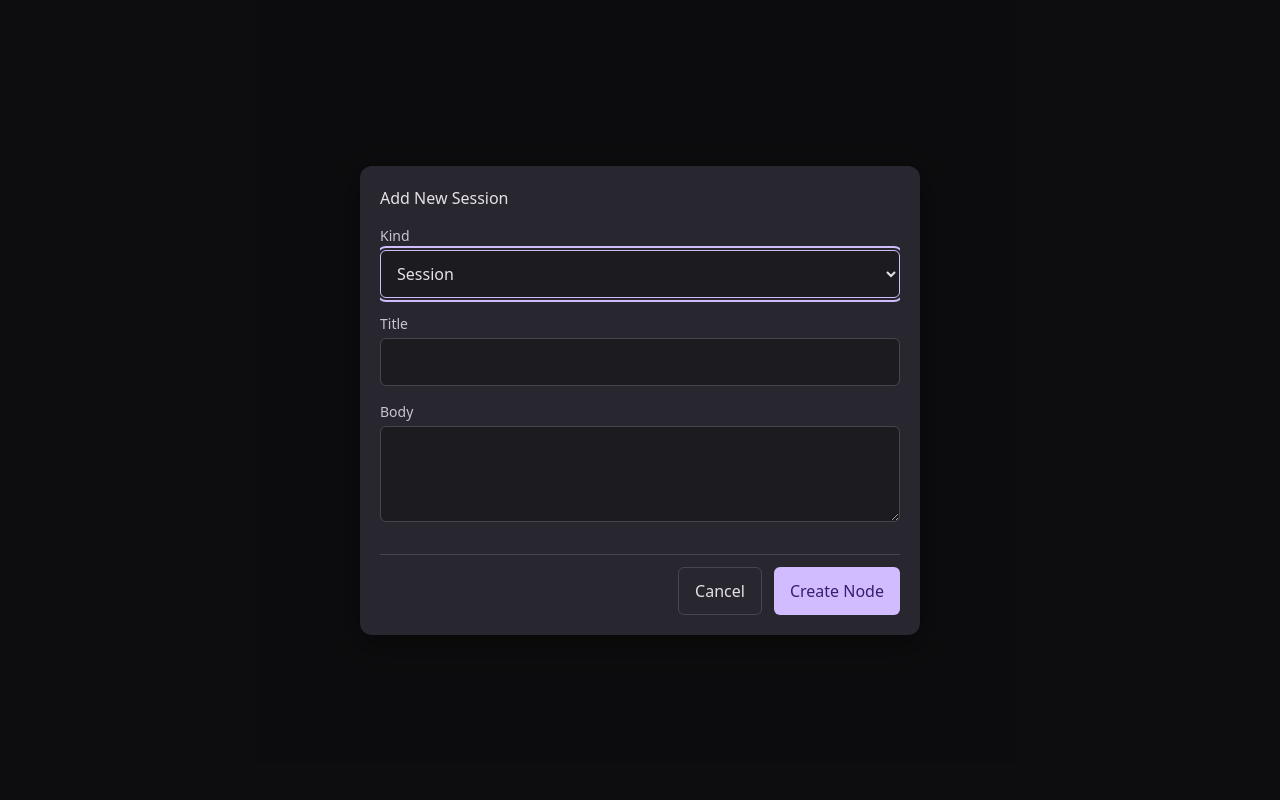
Test: LoomNodeEditor › shows a save error inline
Type "Doomed note" into the field labelled "Title" at (640,362), box [380,338,900,386]
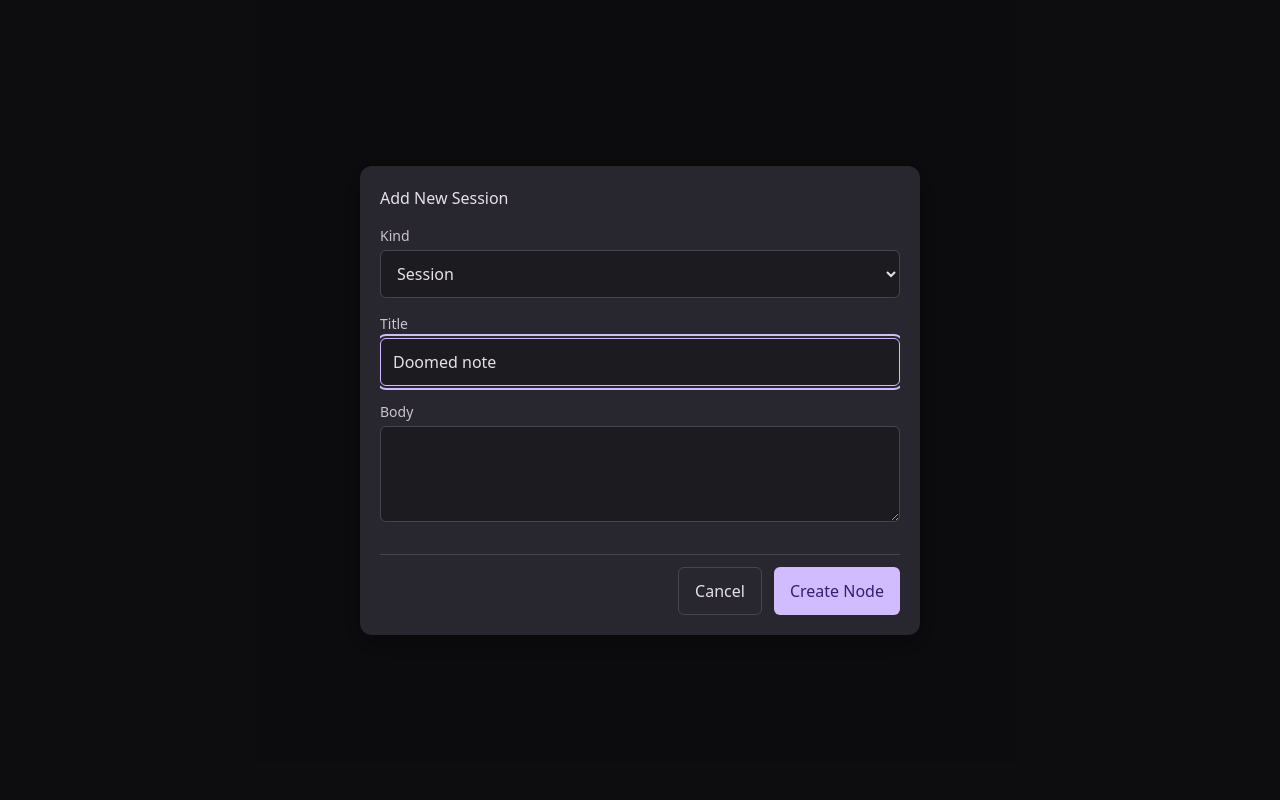
Click the button "Create Node" at (837,590), box [774,566,900,614]
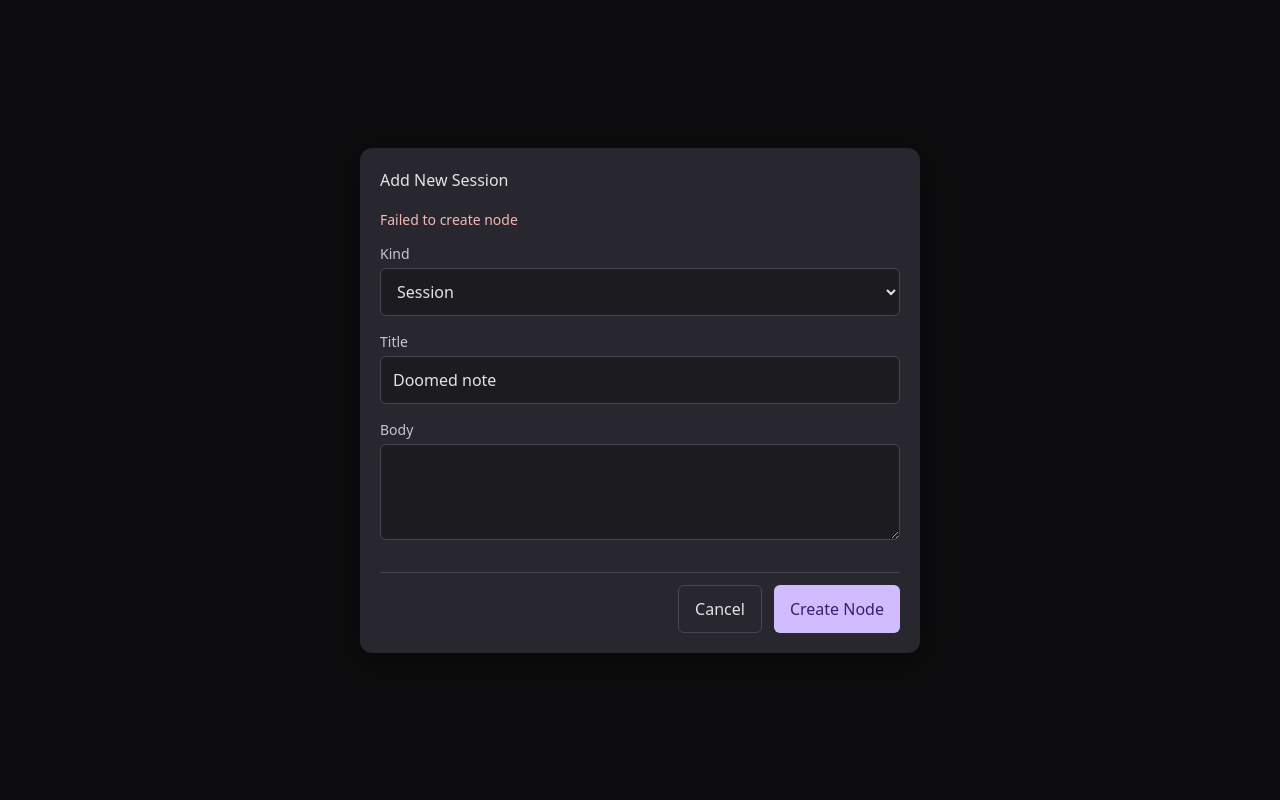
Check: the message reads "Failed to create node", box [380,210,518,228]
